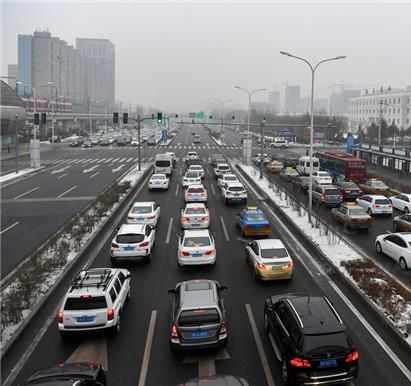bus: (311, 149, 368, 182)
car: (262, 288, 360, 383), (55, 264, 132, 342), (167, 278, 231, 353), (243, 237, 294, 283), (22, 361, 104, 386), (108, 223, 157, 262), (175, 227, 218, 267), (375, 228, 411, 272), (329, 200, 373, 230), (237, 204, 272, 236), (177, 371, 250, 386), (355, 194, 394, 219), (125, 200, 161, 226), (181, 201, 212, 229), (307, 183, 343, 207), (221, 180, 248, 206), (361, 178, 390, 197), (154, 153, 174, 180), (337, 181, 364, 201), (294, 156, 321, 176), (184, 183, 208, 205), (389, 189, 411, 212), (292, 176, 317, 193), (148, 174, 171, 192), (181, 171, 203, 189), (391, 211, 411, 230), (311, 170, 333, 186), (217, 174, 238, 190), (279, 166, 300, 182), (187, 165, 205, 182), (266, 160, 286, 175), (214, 162, 231, 177), (184, 151, 201, 166), (253, 152, 269, 167), (269, 139, 290, 150), (164, 151, 177, 167), (212, 154, 226, 166), (192, 134, 202, 144), (116, 137, 127, 146), (100, 138, 110, 147), (69, 140, 80, 148), (82, 140, 92, 148), (256, 137, 266, 145), (130, 138, 141, 145)
